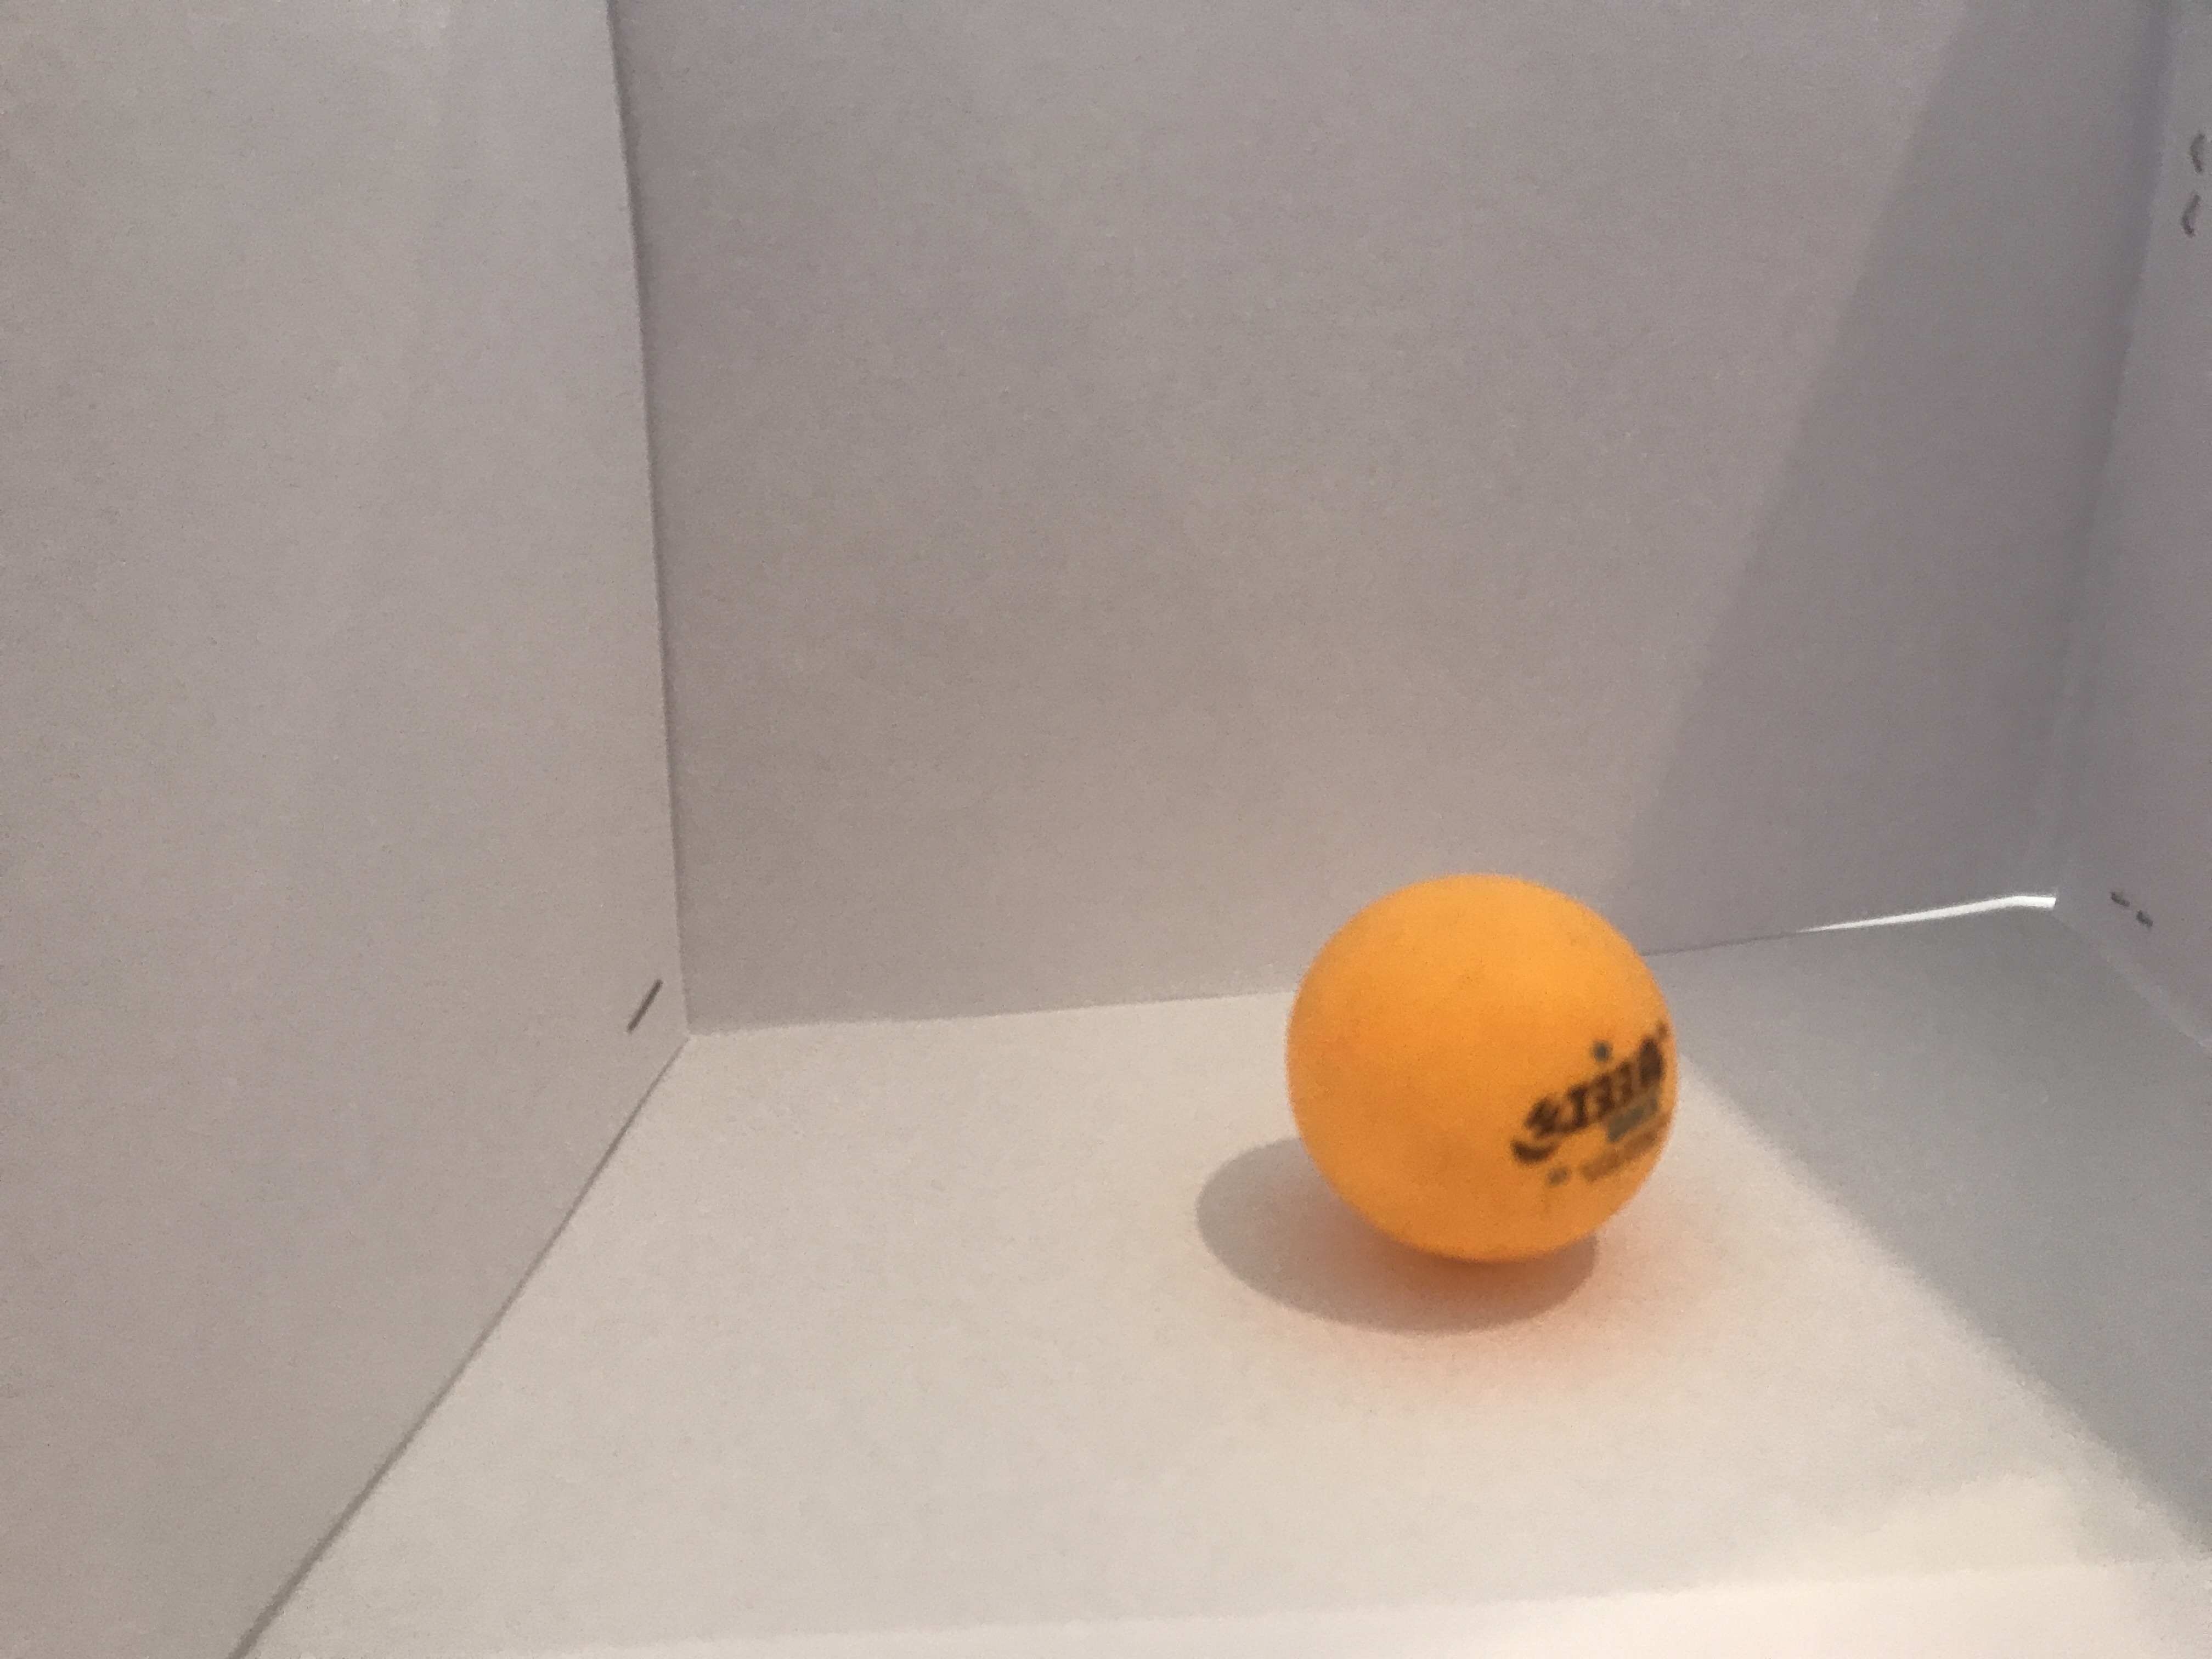pp: (1280, 866, 1681, 1269)
